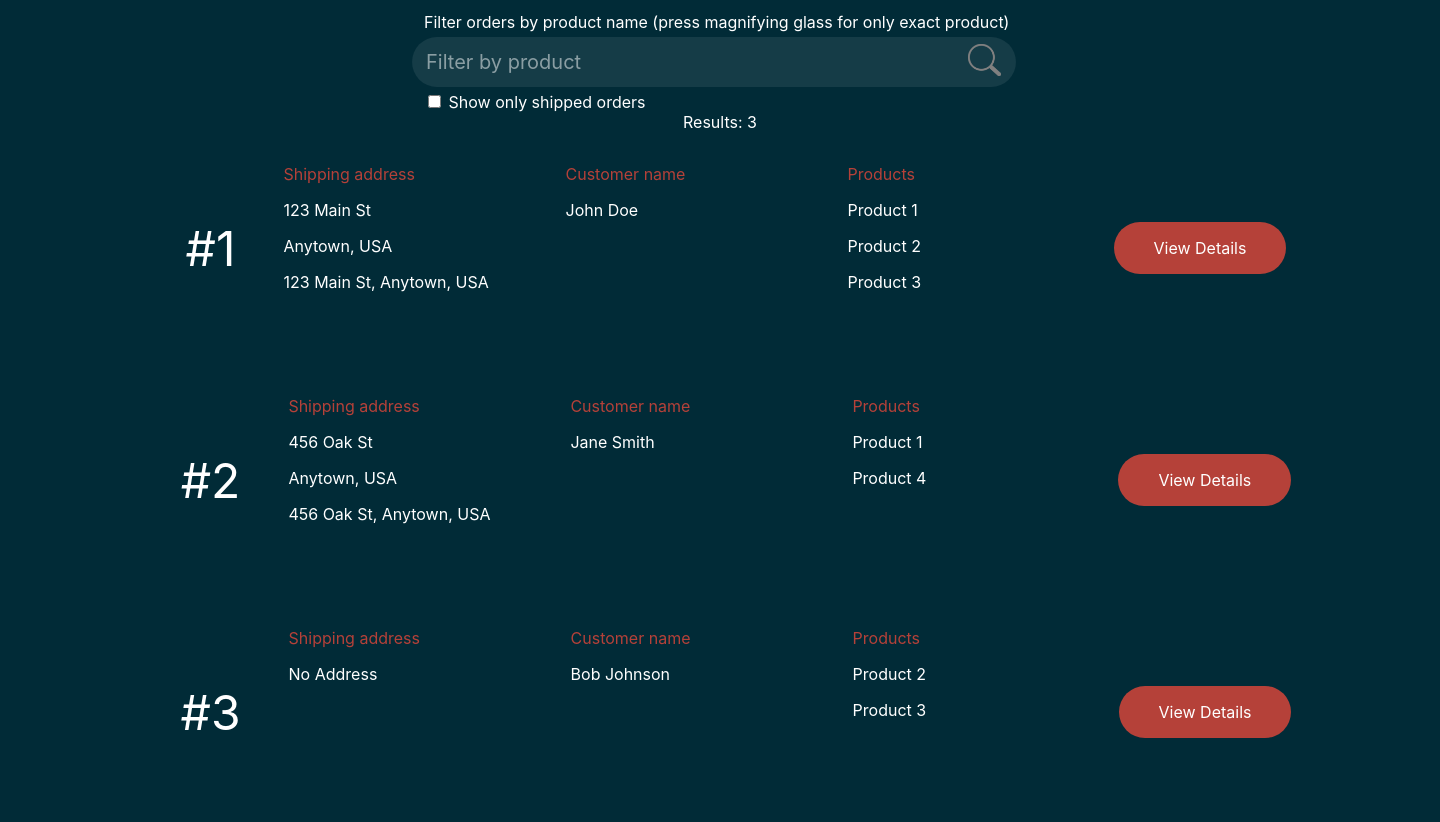
Test: Orders component › filters orders by shipped date
Click the checkbox labelled "Show only shipped orders": (434, 102) [428, 95, 441, 108]
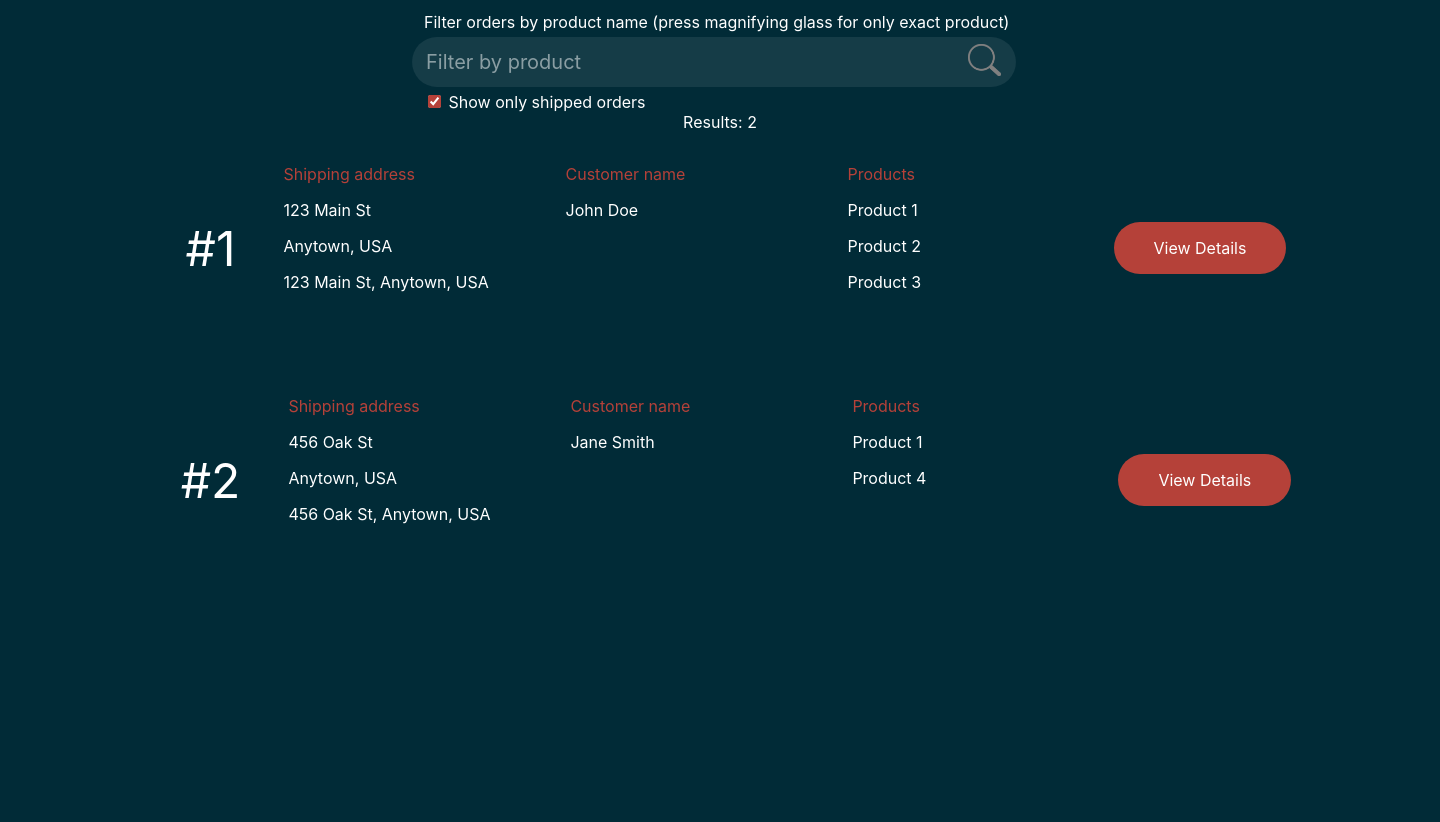
Check: the text "#2" is shown, box [181, 450, 240, 510]
Check: the text "Results: 2" is shown, box [683, 112, 757, 132]
